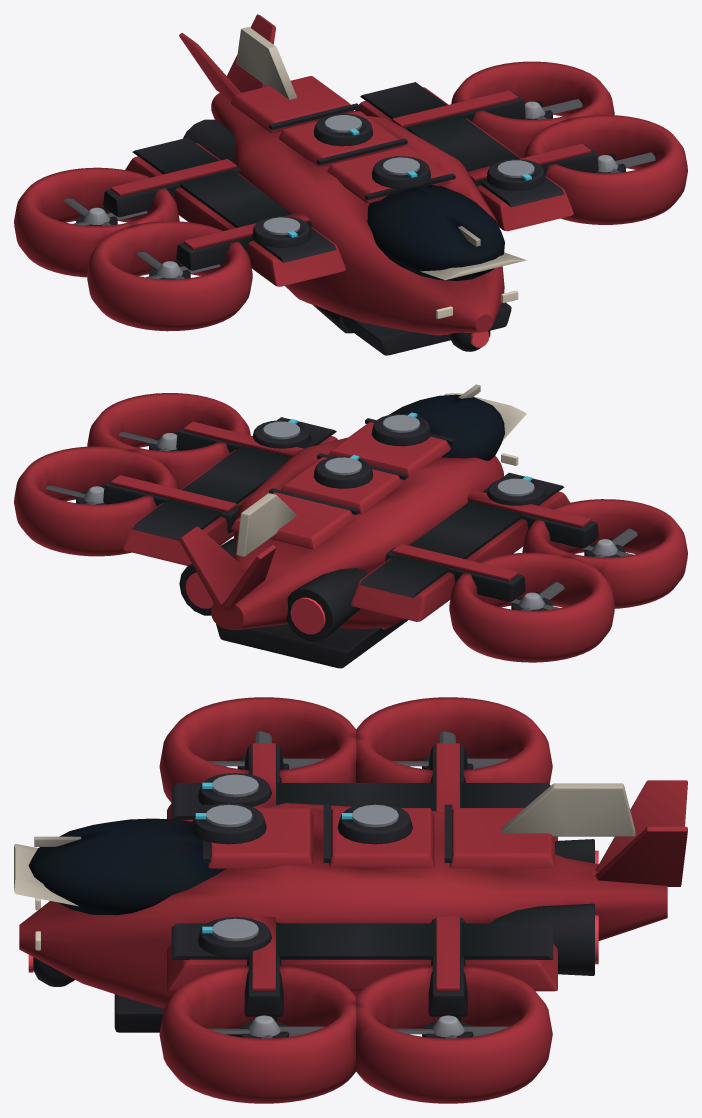
File: ex_gunship_5.glb
3 views of the same model, one above another, from view 1: azimuth 30°, elevation 25°; view 2: azimuth 150°, elevation 25°; view 3: azimuth 270°, elevation 25° (orthographic). The views are drawn at different scales.
Parts seen in each view (by area): view 1: body, rotor_3, rotor_2, rotor_1, rotor_0; view 2: body, rotor_2, rotor_3, rotor_1, rotor_0; view 3: body, rotor_0, rotor_1, rotor_2, rotor_3.
Part boxes in pixels (<box>): body: <box>14,14,687,355</box>; rotor_3: <box>63,198,147,225</box>; rotor_2: <box>136,252,220,279</box>; rotor_1: <box>524,99,582,119</box>; rotor_0: <box>597,152,655,172</box>; body: <box>14,384,687,668</box>; rotor_2: <box>560,528,637,557</box>; rotor_3: <box>481,582,564,610</box>; rotor_1: <box>46,485,104,504</box>; rotor_0: <box>119,432,177,451</box>; body: <box>14,697,687,1103</box>; rotor_0: <box>207,1015,324,1038</box>; rotor_1: <box>392,1015,509,1038</box>; rotor_2: <box>208,731,325,768</box>; rotor_3: <box>392,731,509,768</box>.
Size of the model in its own units: 12.07 by 3.48 by 9.65.
